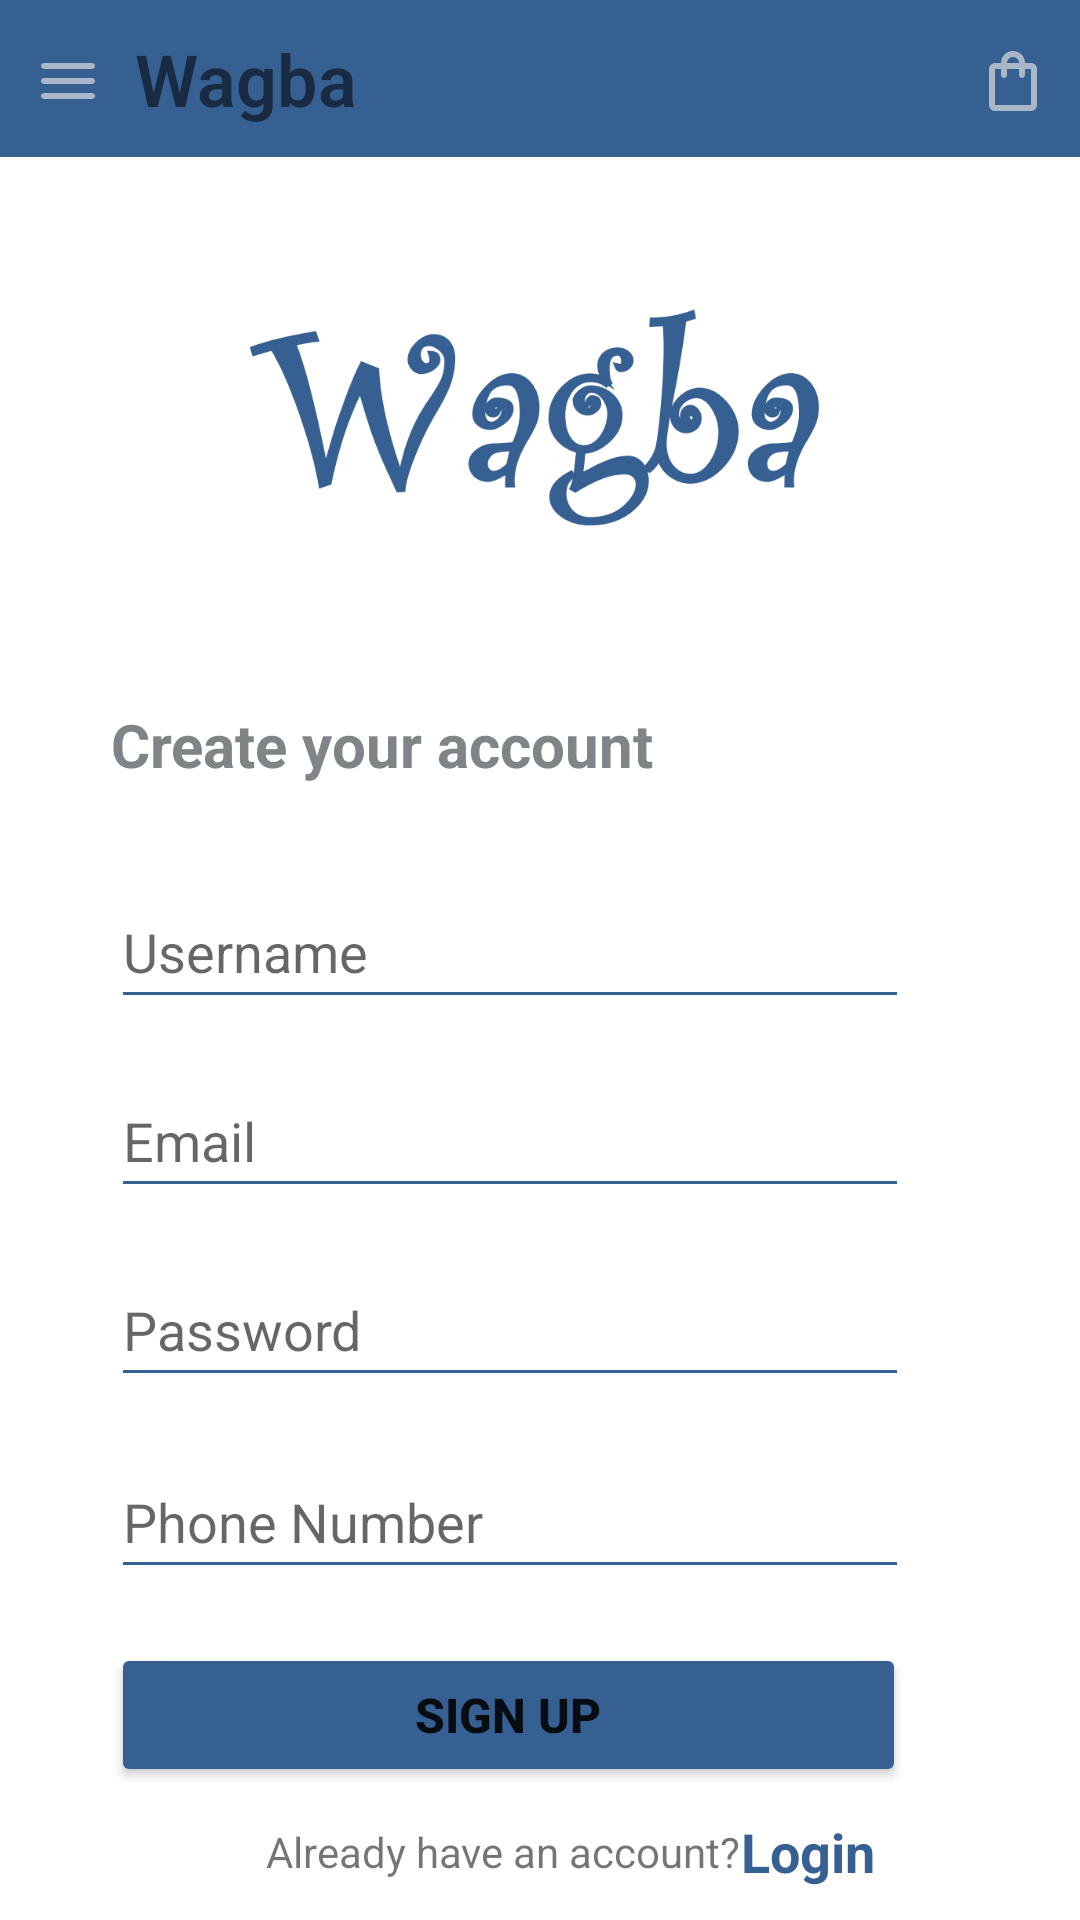

Icons on this 1080w x 1920h Android screen, each with the point to tap as point (x, y):
menu: point (68, 81)
shopping bag: point (1013, 81)
